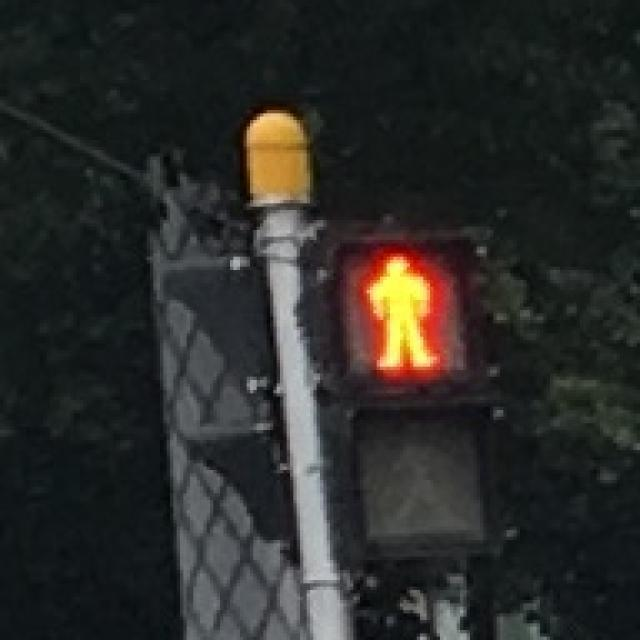red-crossing: (342, 240, 468, 383)
